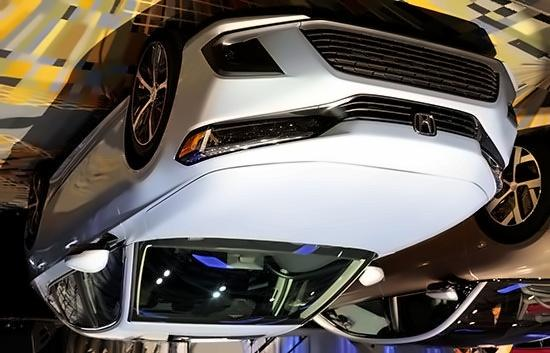Car hood: (143, 151, 492, 254)
Fender - -F-L-: (114, 85, 185, 237), (451, 216, 550, 294)
Front bumper: (176, 14, 521, 170)
Headlight - -L-: (174, 104, 346, 167)
Passenger-s door - -F-L-: (66, 76, 137, 343)
Passenger-s door - -R-L-: (34, 125, 98, 345)
Side bumper - -L-: (40, 88, 131, 206)
Side mirror - -L-: (67, 237, 120, 273), (423, 283, 465, 303)
Side mirror - -R-: (358, 265, 387, 289)
